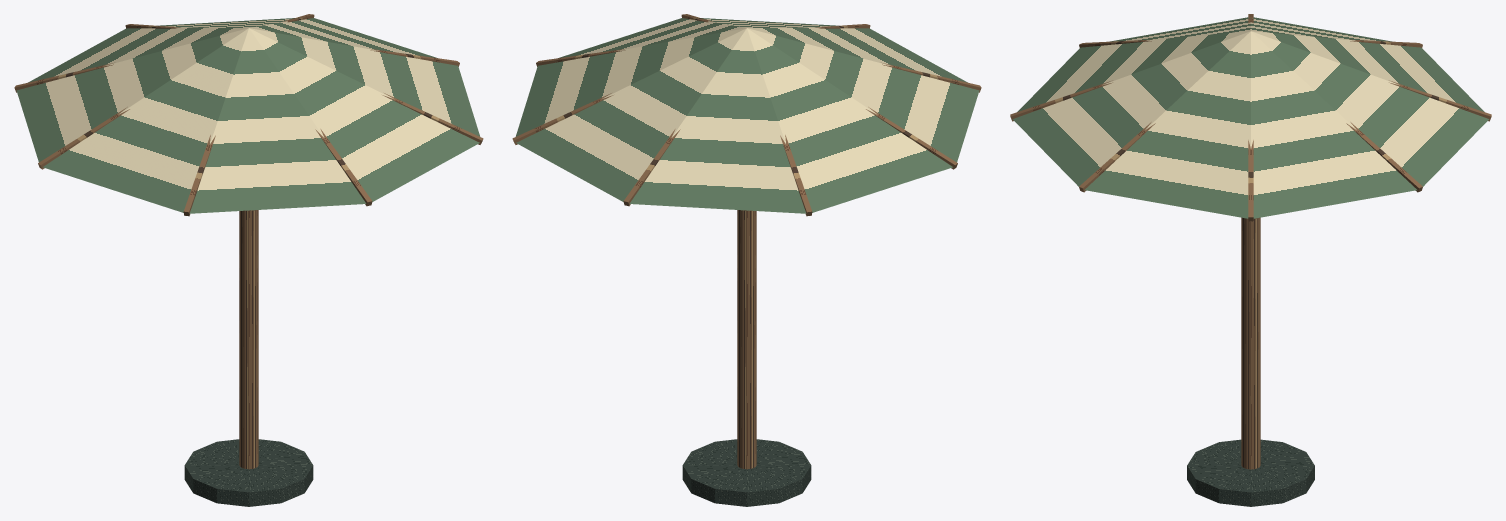
File: umbrella_sage.gltf
3 views of the same model, side by side, from view 1: azimuth 30°, elevation 25°; view 2: azimuth 150°, elevation 25°; view 3: azimuth 270°, elevation 25° (orthographic).
Parts seen in each view (by area): view 1: canopy, base, pole, rib (×4); view 2: canopy, base, pole, rib (×4); view 3: canopy, base, pole, rib (×2).
Boxes of the visible parts, x1,y1,x2,y2 form: canopy: (16, 18, 480, 213); base: (184, 439, 313, 506); pole: (239, 210, 258, 469); rib (×4): (38, 93, 483, 216); canopy: (515, 18, 979, 213); base: (682, 439, 811, 506); pole: (737, 210, 756, 469); rib (×4): (512, 93, 957, 216); canopy: (1012, 17, 1489, 218); base: (1187, 439, 1314, 506); pole: (1241, 217, 1260, 469); rib (×2): (1079, 122, 1422, 192).
Bounding box in the file's own units: 1.88 × 1.94 × 1.88.
Materials: 3 (3 with a texture image).
